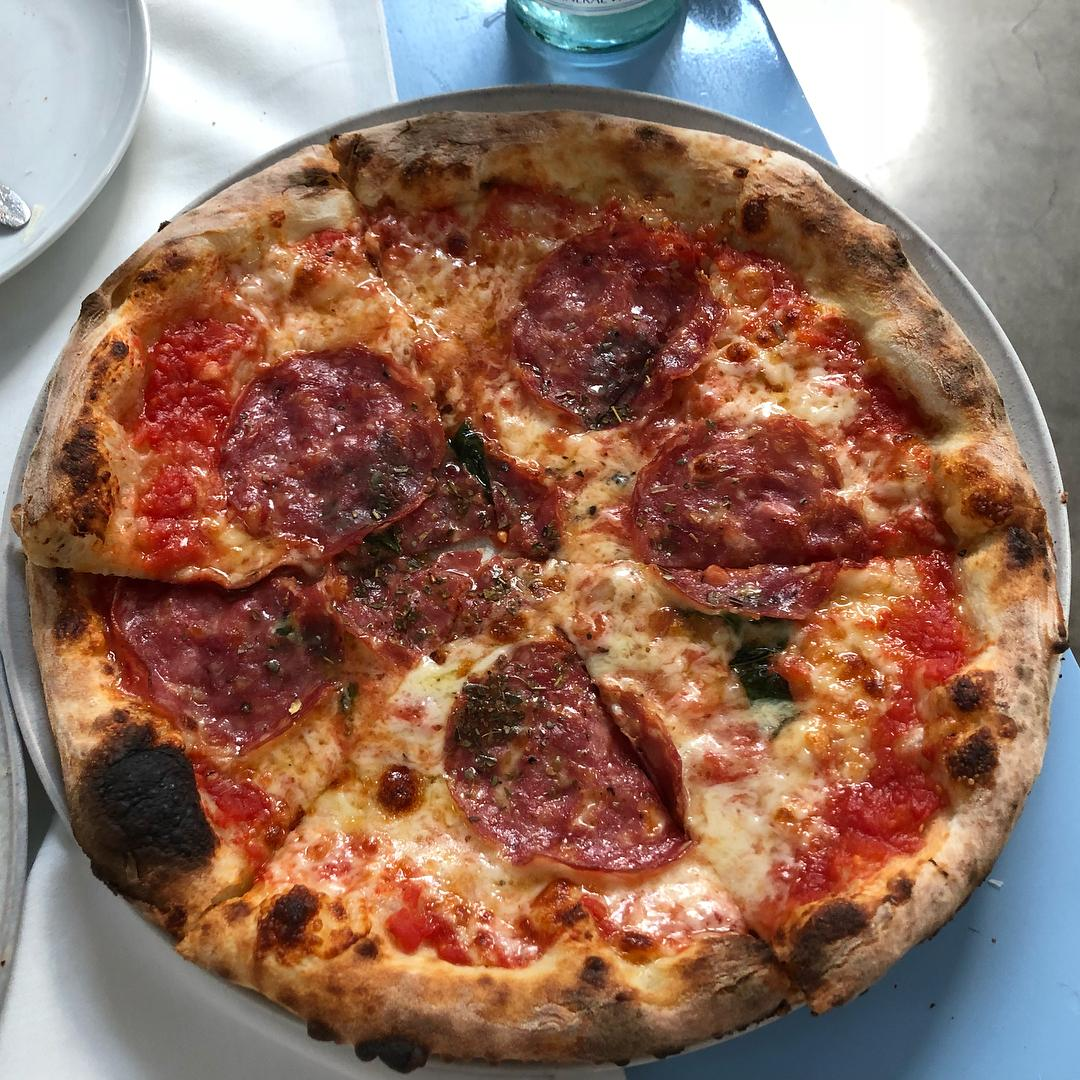Basil: (733, 645, 796, 726)
Pepperoni: (433, 633, 694, 885), (629, 409, 829, 613), (105, 577, 357, 722), (497, 233, 708, 402), (217, 353, 424, 524), (361, 473, 538, 644)
Pizza: (21, 109, 1080, 1063)
